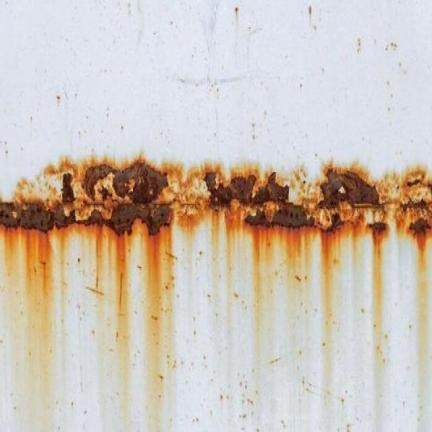besi_tidak_karat: (0, 0, 431, 196)
karat: (0, 159, 431, 236), (0, 164, 170, 234), (205, 172, 288, 205), (319, 169, 379, 207), (251, 201, 314, 227), (19, 204, 53, 232), (0, 203, 18, 227), (409, 218, 431, 234), (327, 214, 342, 230), (373, 222, 386, 231)
